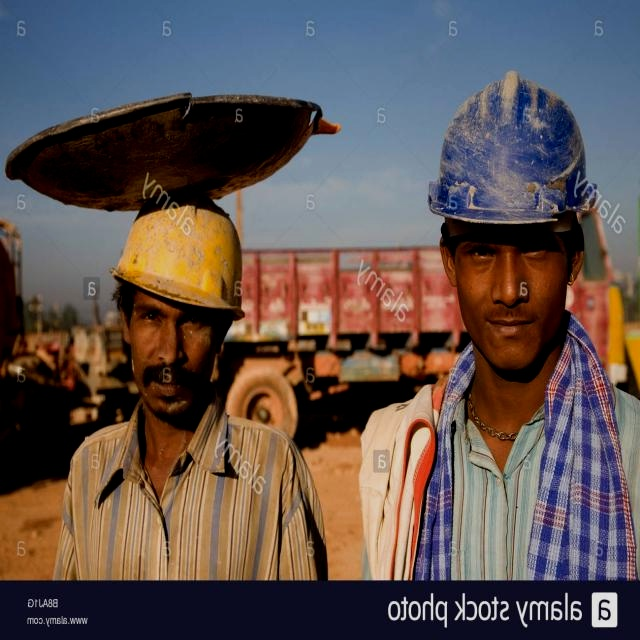Con_Casco: (443, 79, 600, 356), (121, 195, 232, 418)
